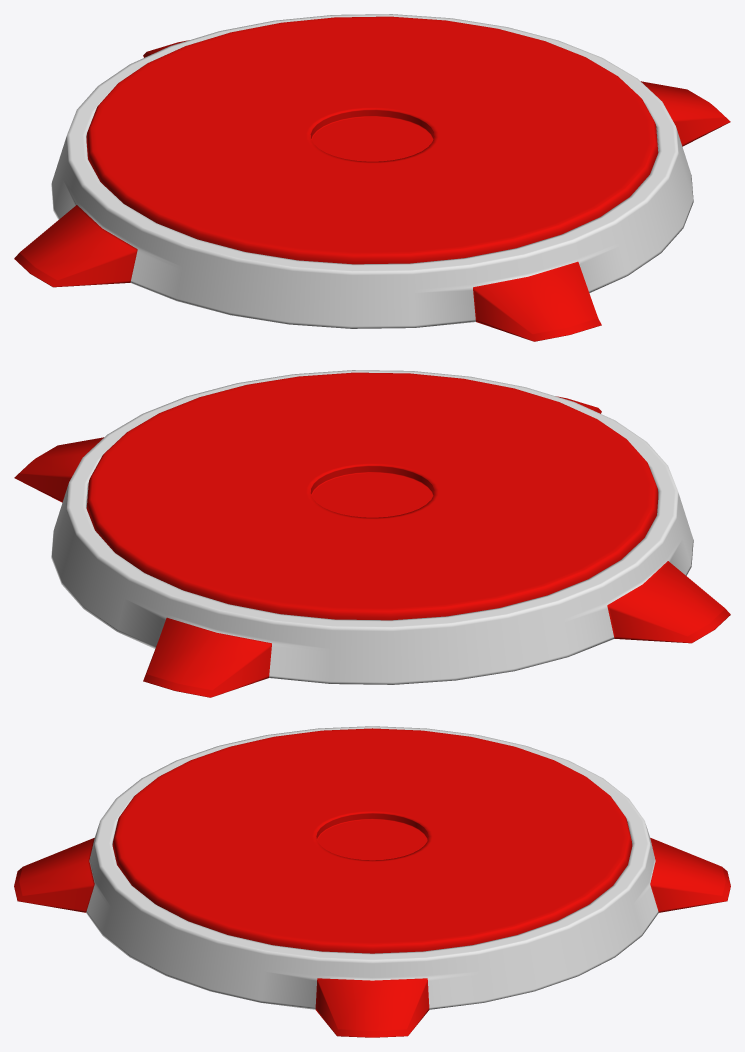
Rendered from CubeButton.fbx.
3 views of the same model, one above another, from view 1: azimuth 30°, elevation 25°; view 2: azimuth 150°, elevation 25°; view 3: azimuth 270°, elevation 25° (orthographic). The views are drawn at different scales.
Visible parts, largest first — view 1: Cylinder.001, Cylinder; view 2: Cylinder.001, Cylinder; view 3: Cylinder.001, Cylinder.
Boxes of the visible parts, x1,y1,x2,y2 form: Cylinder.001: (86,16,658,264); Cylinder: (14,14,730,341); Cylinder.001: (86,372,658,620); Cylinder: (14,370,730,697); Cylinder.001: (112,728,632,953); Cylinder: (14,726,730,1037).
Bounding box in the file's own units: 4 × 4 × 0.322.
